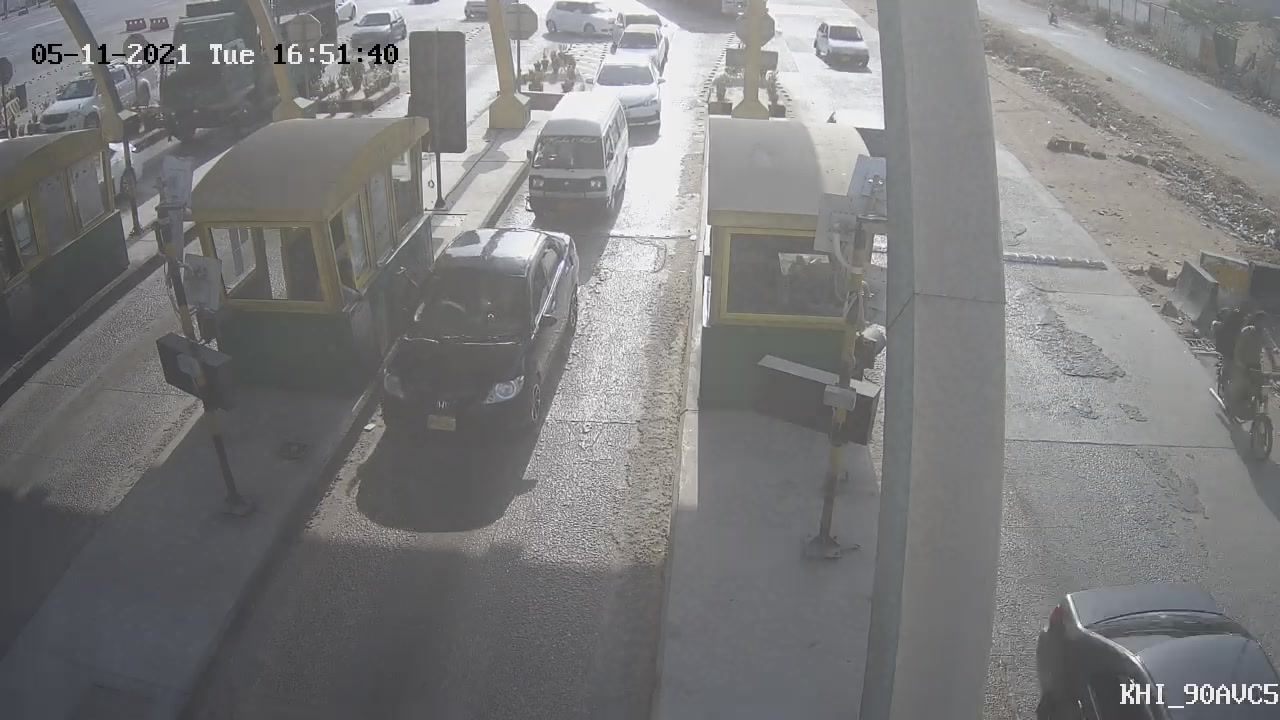F1: (352, 211, 605, 459), (507, 79, 647, 240)
